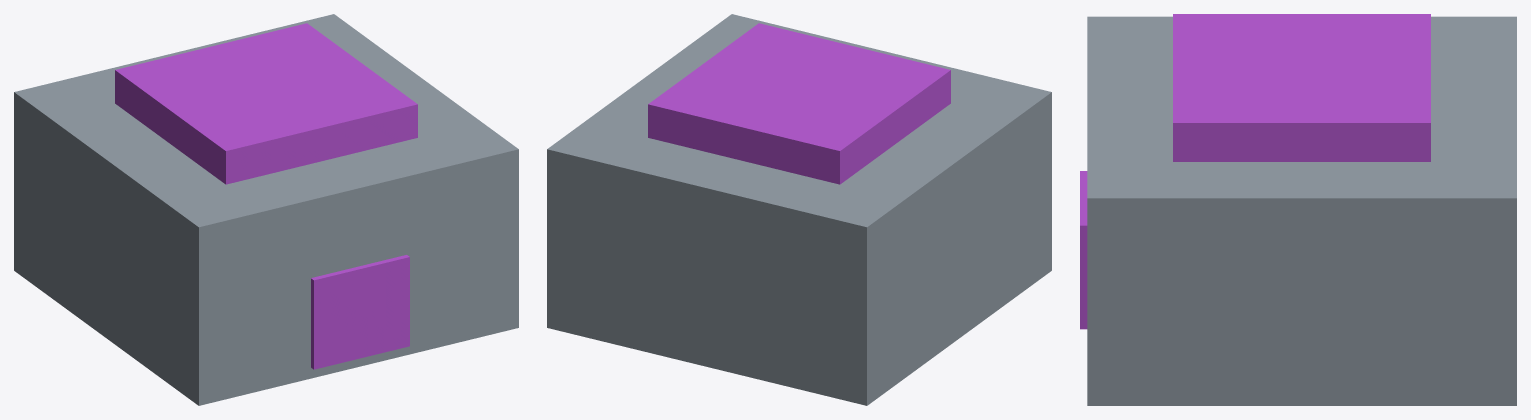
Rendered from CH_Barracks_LOD0.glb.
3 views of the same model, side by side, from view 1: azimuth 30°, elevation 25°; view 2: azimuth 150°, elevation 25°; view 3: azimuth 270°, elevation 25° (orthographic). The views are drawn at different scales.
Parts seen in each view (by area): view 1: EntranceGate; view 2: EntranceGate; view 3: EntranceGate.
Part boxes in pixels (bbox=[...]): EntranceGate: bbox=[14, 14, 518, 405]; EntranceGate: bbox=[547, 14, 1051, 405]; EntranceGate: bbox=[1080, 14, 1516, 405].
Bounding box in the file's own units: 600 × 380 × 610.
